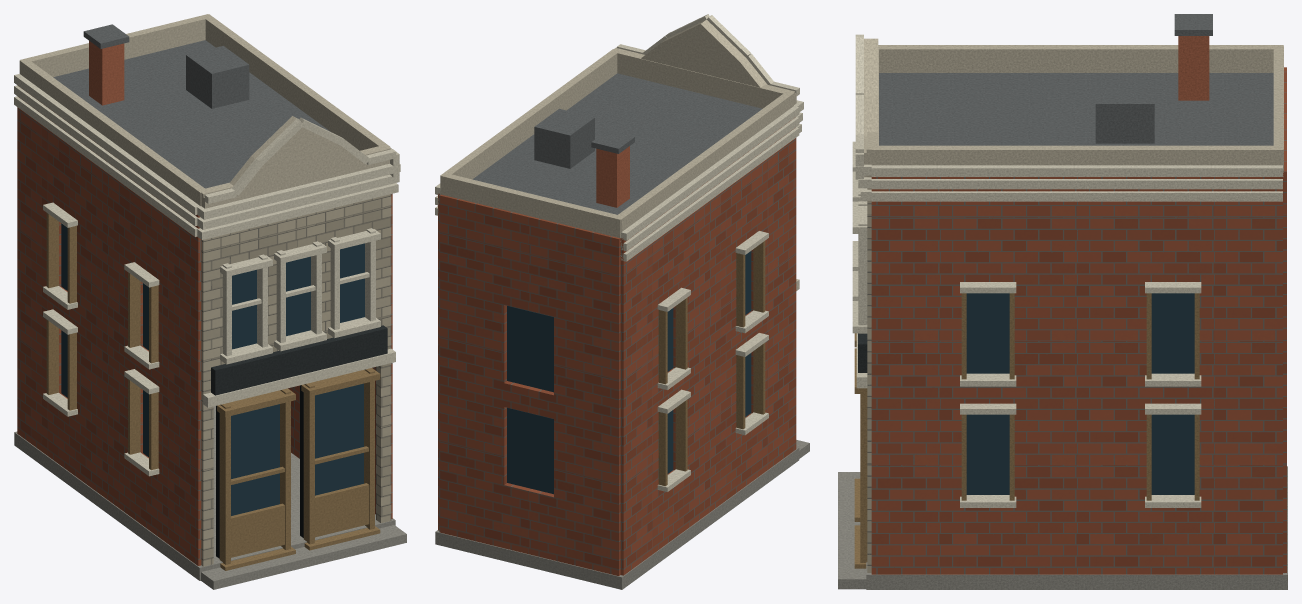
Rendered from CLSTGA16_lod2.glb.
The picture shows the model from 3 angles, left to right: view 1: azimuth 30°, elevation 25°; view 2: azimuth 150°, elevation 25°; view 3: azimuth 270°, elevation 25°; orthographic projection. The views are drawn at different scales.
Visible parts, largest first — view 1: CLSTGA16_LOD2; view 2: CLSTGA16_LOD2; view 3: CLSTGA16_LOD2.
Boxes of the visible parts, box(x1,y1,x2,y2) form: CLSTGA16_LOD2: box(14, 14, 406, 589); CLSTGA16_LOD2: box(435, 14, 809, 589); CLSTGA16_LOD2: box(838, 14, 1287, 589).
Bounding box in the file's own units: 4.11 × 8.05 × 6.57.
11 materials, 9 textured.
